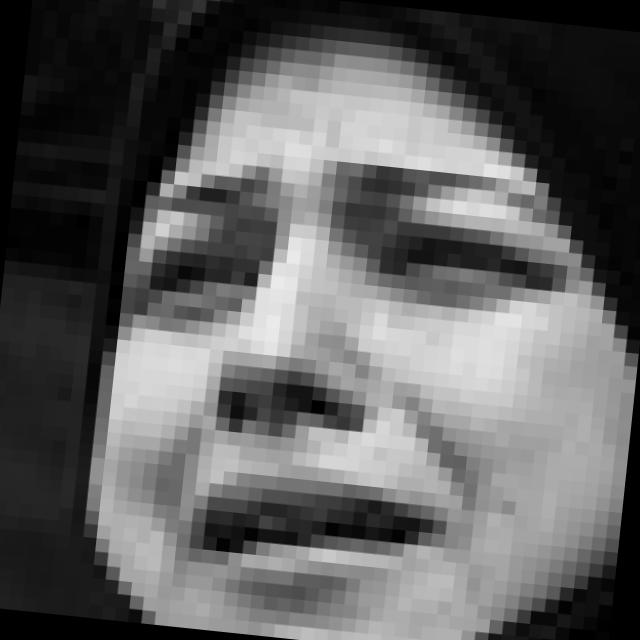sad: (97, 78, 596, 632)
